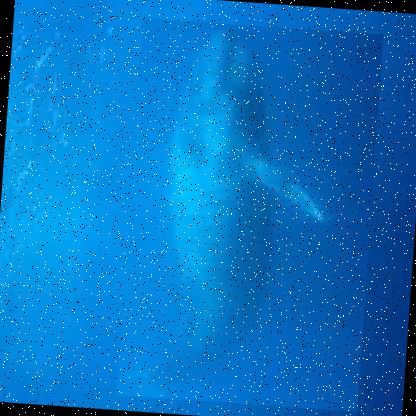blue_whale: (116, 17, 384, 412)
